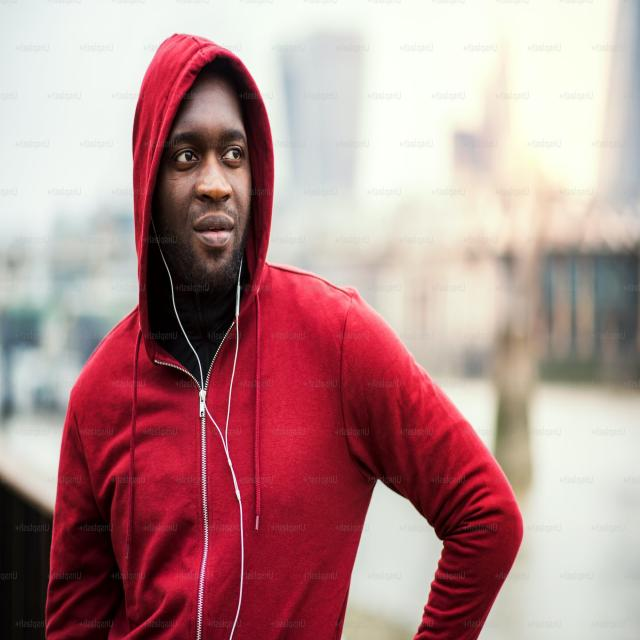adult: (45, 32, 522, 640)
